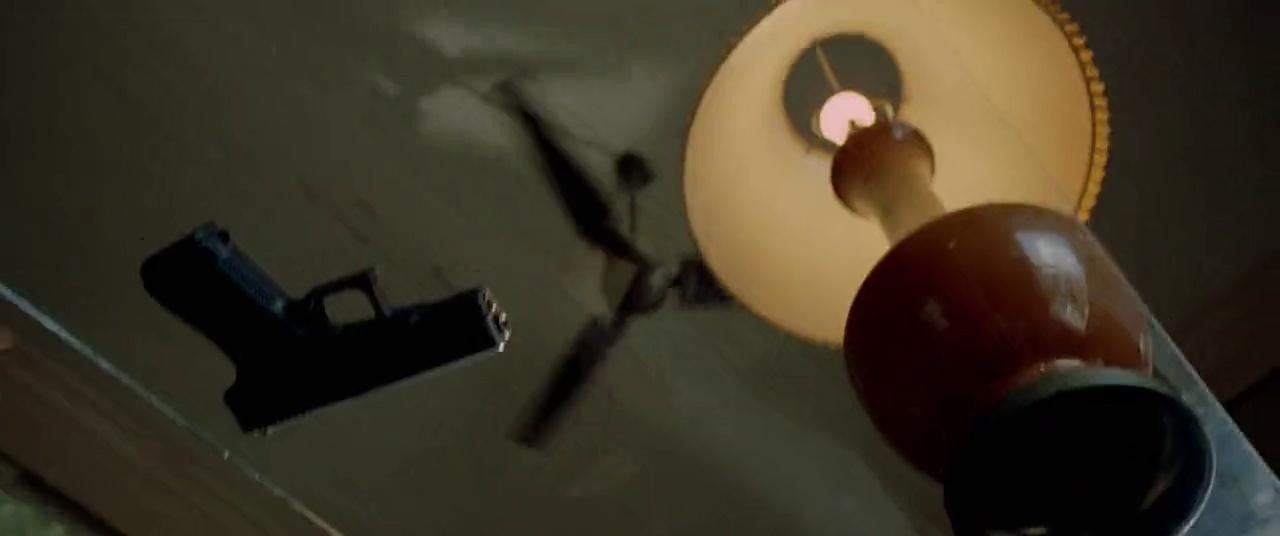gun: (129, 219, 536, 430)
